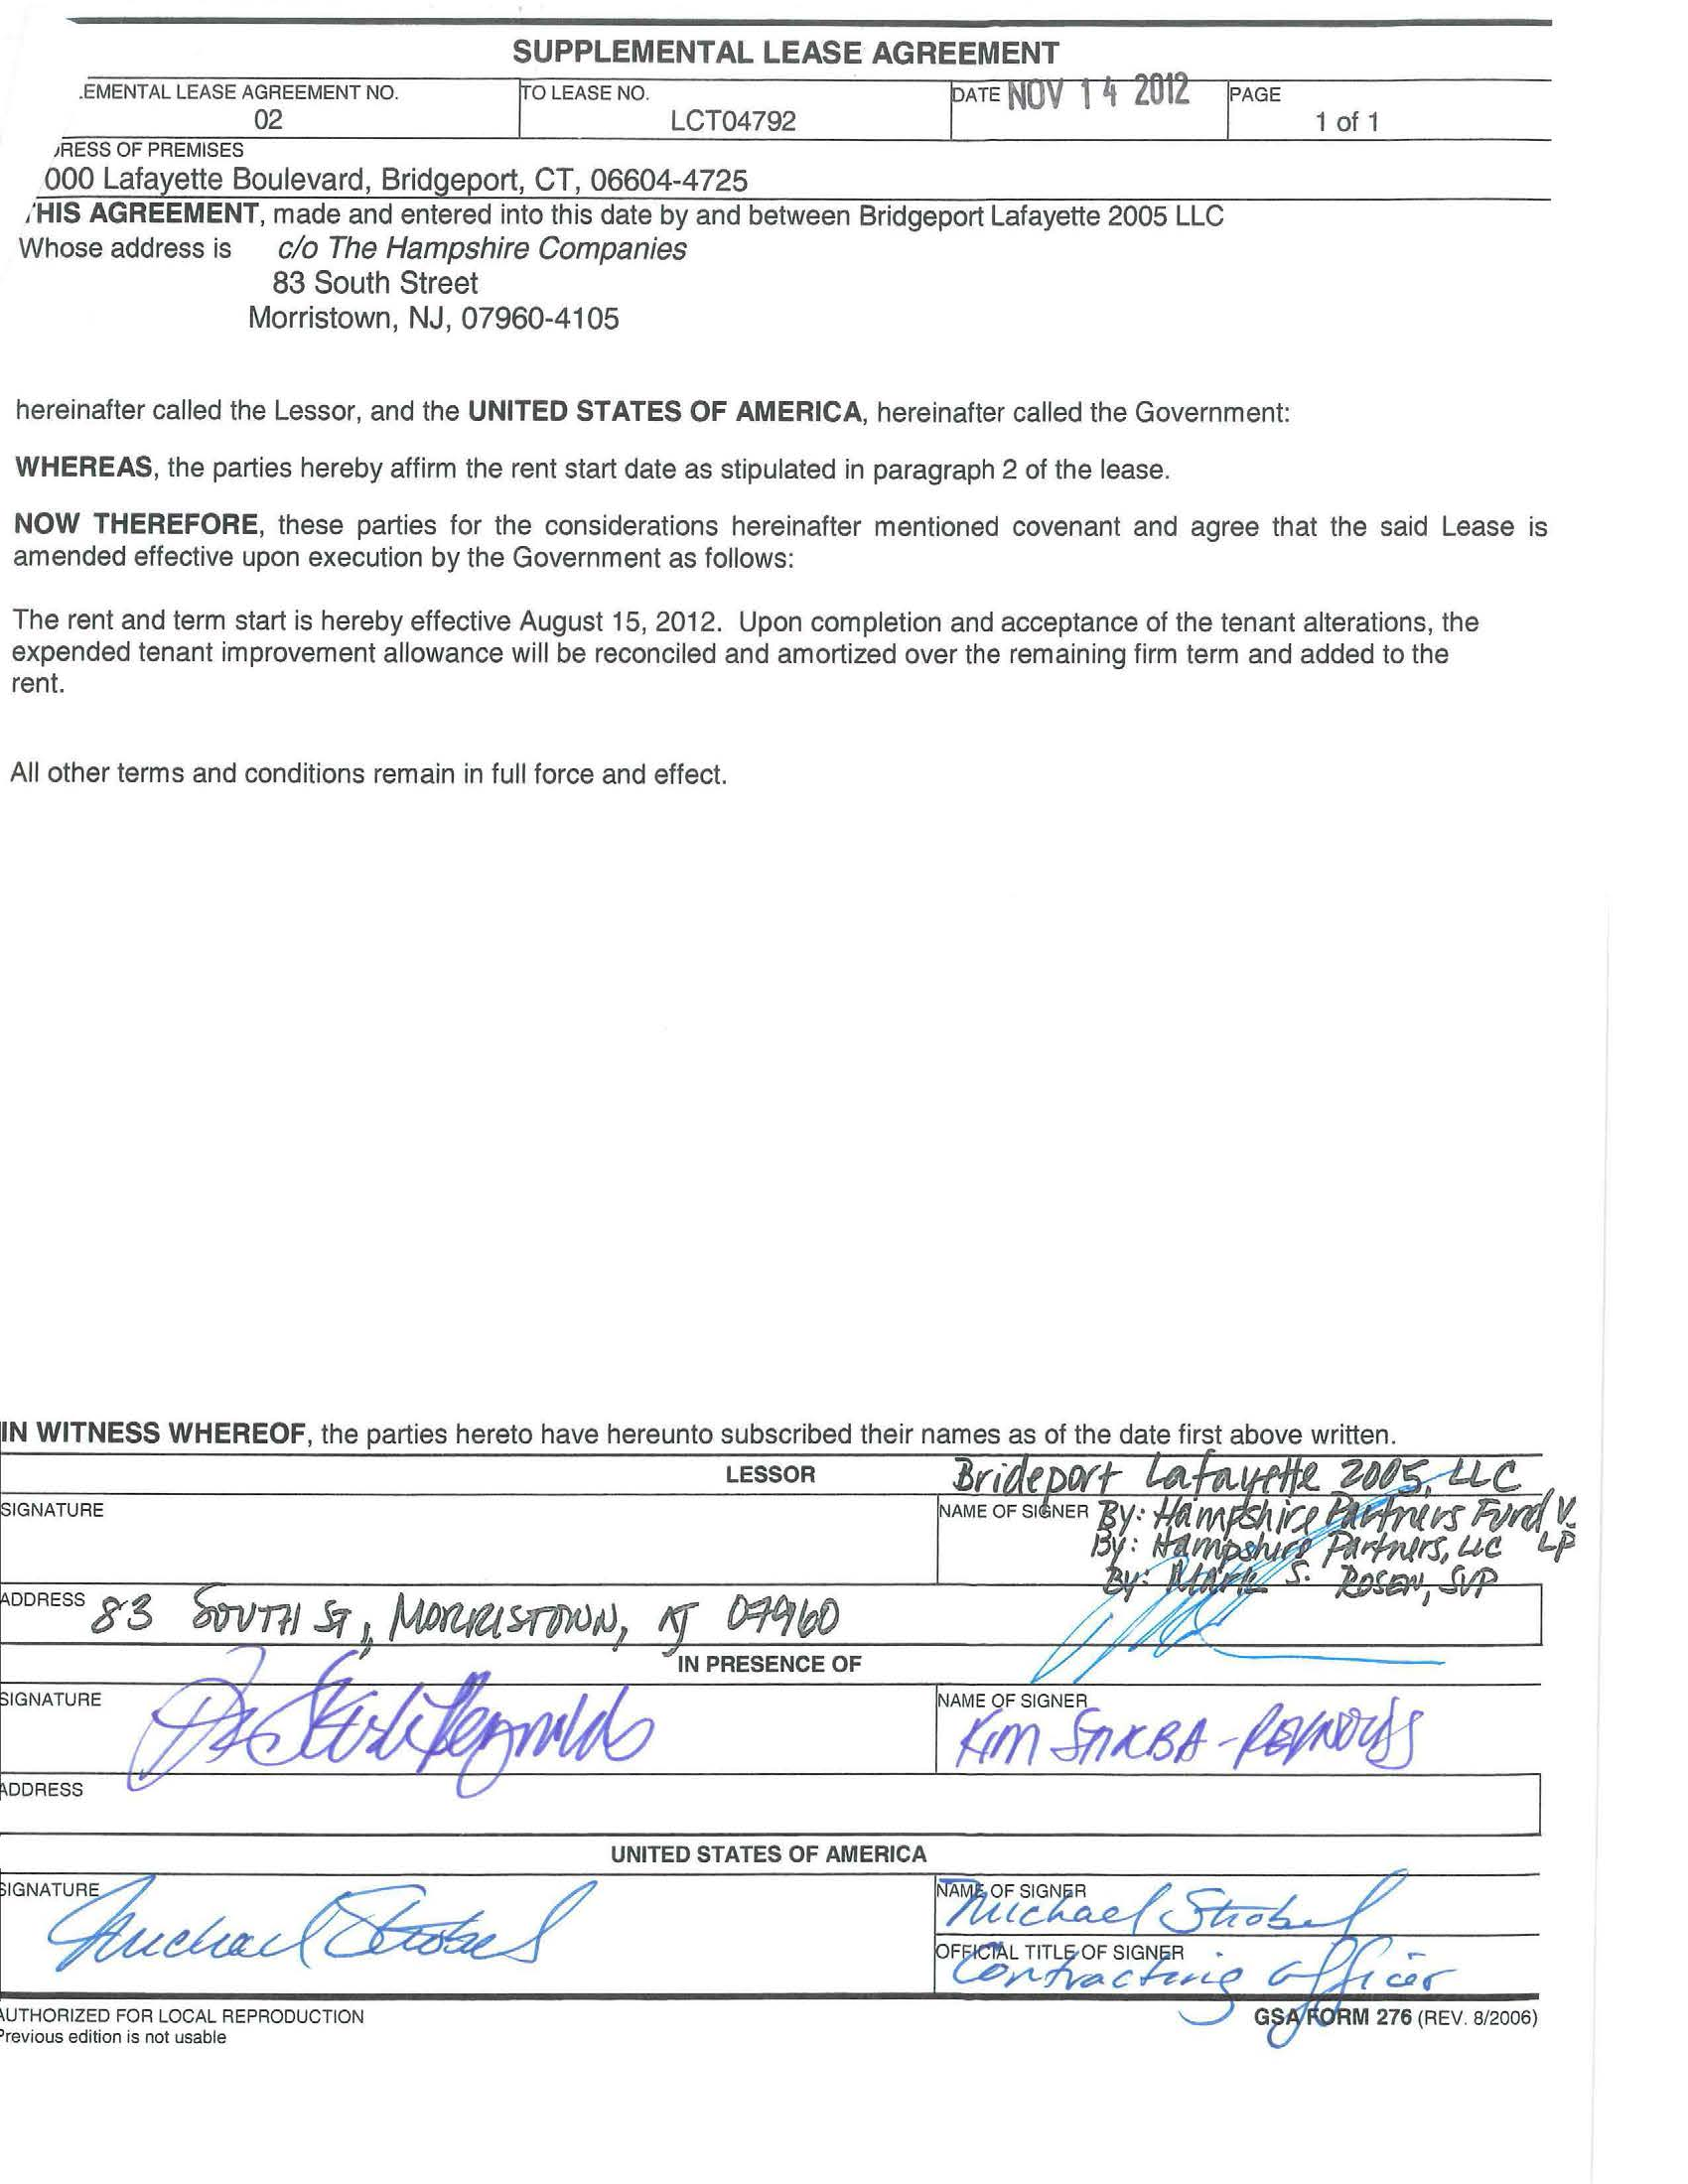handwritten: (101, 1645, 679, 1796), (44, 1872, 633, 1998), (924, 1934, 1482, 2040), (942, 1693, 1457, 1780), (933, 1883, 1427, 1934)
